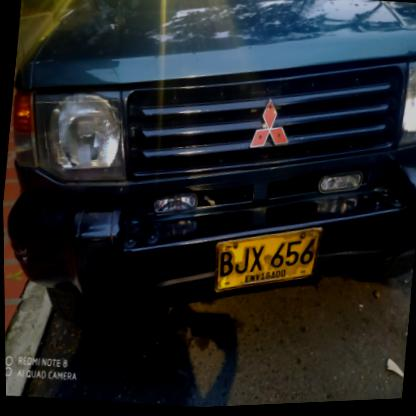placa: (201, 217, 329, 309)
